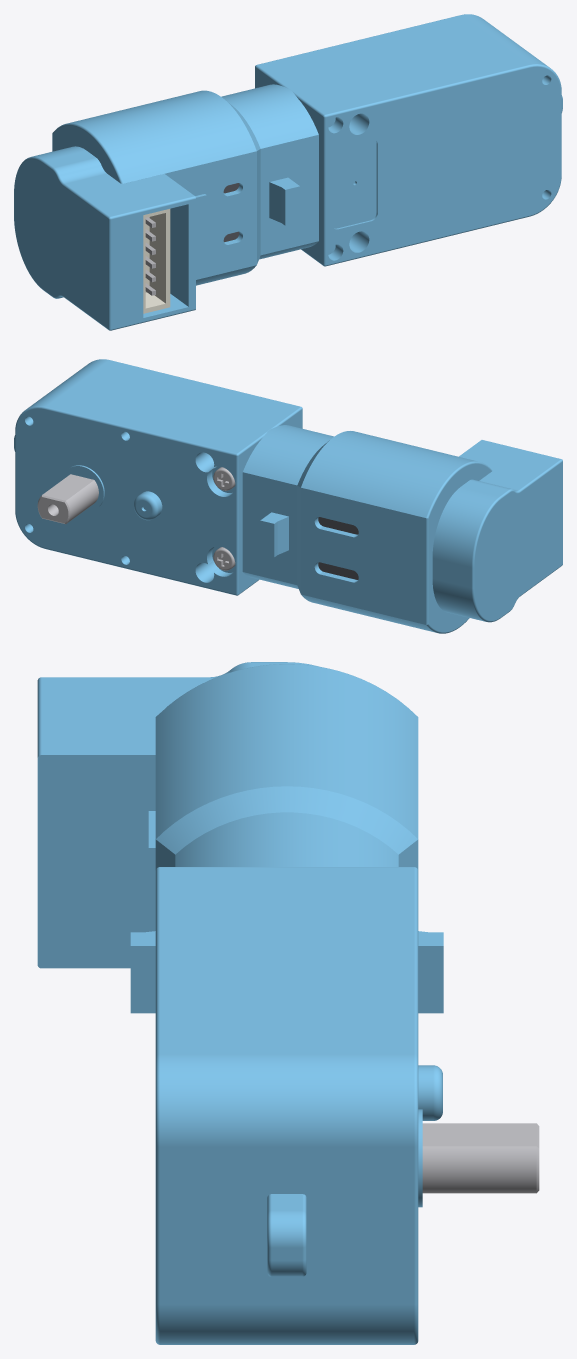
File: dg01d_e_gearmotor.glb
The picture shows the model from 3 angles, top to bottom: view 1: azimuth 30°, elevation 25°; view 2: azimuth 150°, elevation 25°; view 3: azimuth 270°, elevation 25°; orthographic projection. The views are drawn at different scales.
Parts seen in each view (by area): view 1: gearbox, motor_housing, encoder_cover, connector; view 2: gearbox, motor_housing, encoder_cover, shaft, screws, motor_can; view 3: gearbox, motor_housing, encoder_cover, shaft.
Part boxes in pixels (<box>): gearbox: <box>255,14,562,266</box>; motor_housing: <box>52,84,318,285</box>; encoder_cover: <box>14,146,206,330</box>; connector: <box>143,209,170,313</box>; gearbox: <box>14,359,302,595</box>; motor_housing: <box>242,425,492,633</box>; encoder_cover: <box>432,440,562,622</box>; shaft: <box>37,474,98,524</box>; screws: <box>213,467,235,570</box>; motor_can: <box>318,517,358,579</box>; gearbox: <box>155,867,442,1344</box>; motor_housing: <box>130,664,443,1013</box>; encoder_cover: <box>37,662,318,968</box>; shaft: <box>422,1123,539,1193</box>.
Bounding box in the file's own units: 0.0797 × 0.0252 × 0.0358.
